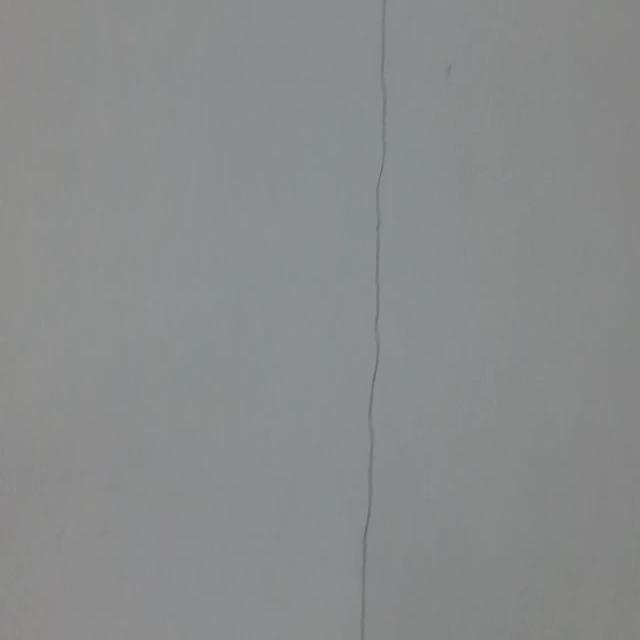Crack: (346, 0, 404, 640)
